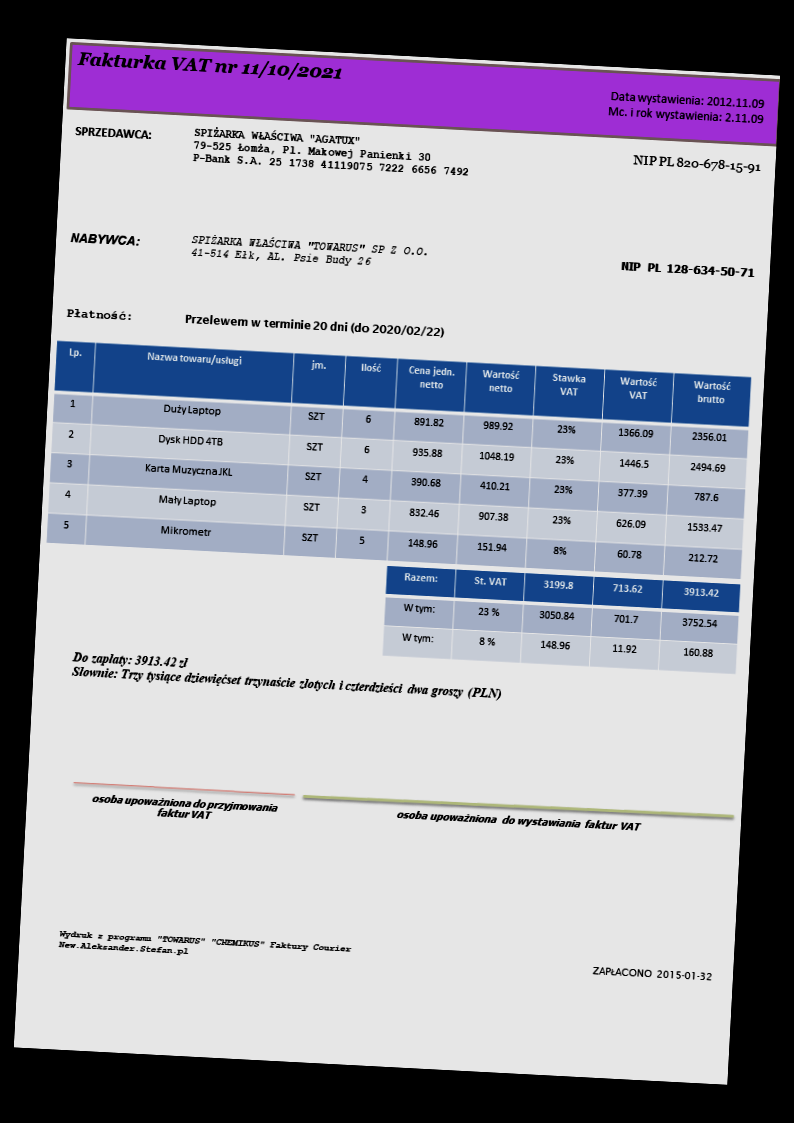Table: (44, 338, 752, 580), (381, 564, 741, 675)
TextBox: (68, 648, 505, 704), (188, 124, 471, 179), (55, 927, 354, 967), (188, 231, 431, 272), (74, 48, 344, 83), (182, 312, 446, 341), (394, 806, 645, 836), (89, 790, 279, 825), (604, 87, 767, 126), (618, 257, 756, 281), (628, 152, 762, 175), (589, 962, 714, 986), (72, 122, 153, 142), (68, 228, 141, 248), (64, 304, 135, 324)
